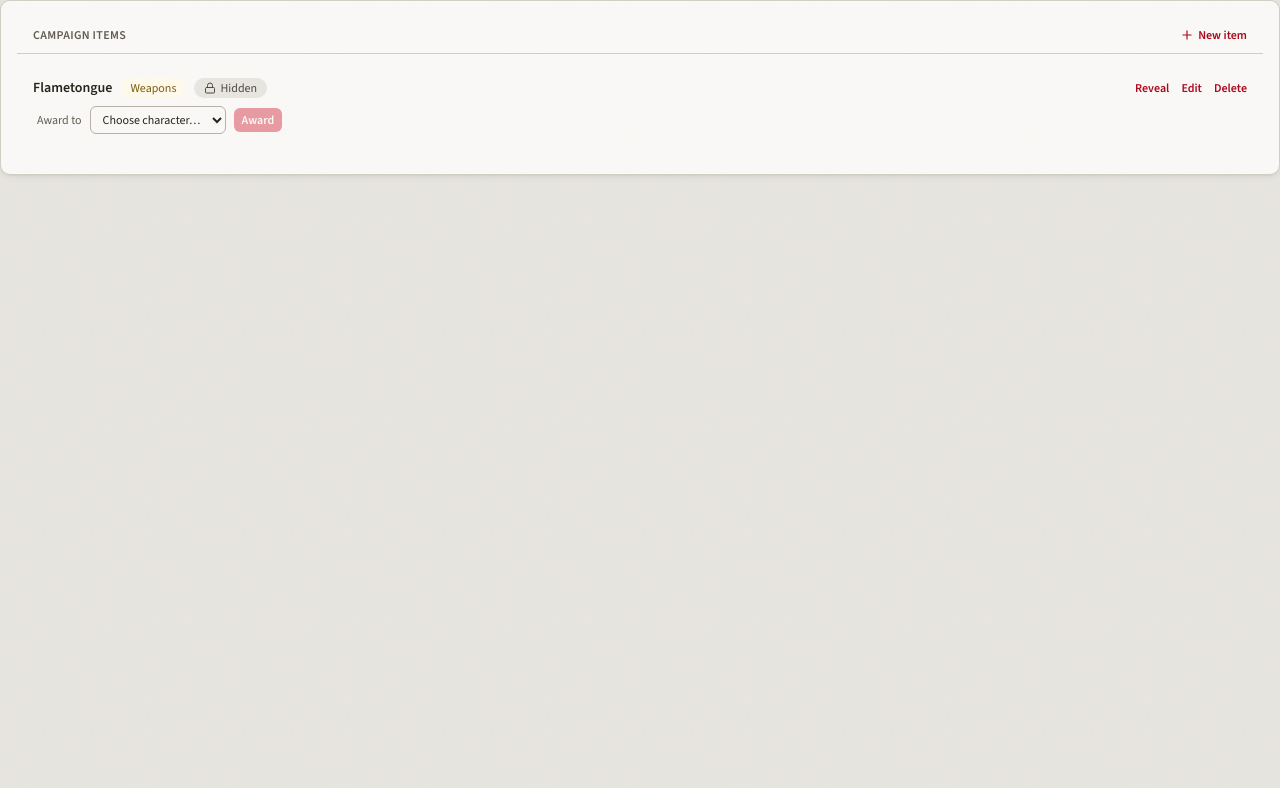
Scenario: CampaignItemsPanel field parity (#527/#542) › shows an existing non-gp cost in the single Value field on edit
The width and height of the screenshot is (1280, 788).
Check: the link "Flametongue" is shown, box [33, 78, 112, 98]
Click the button "Edit": [1192, 88] box [1181, 80, 1202, 96]
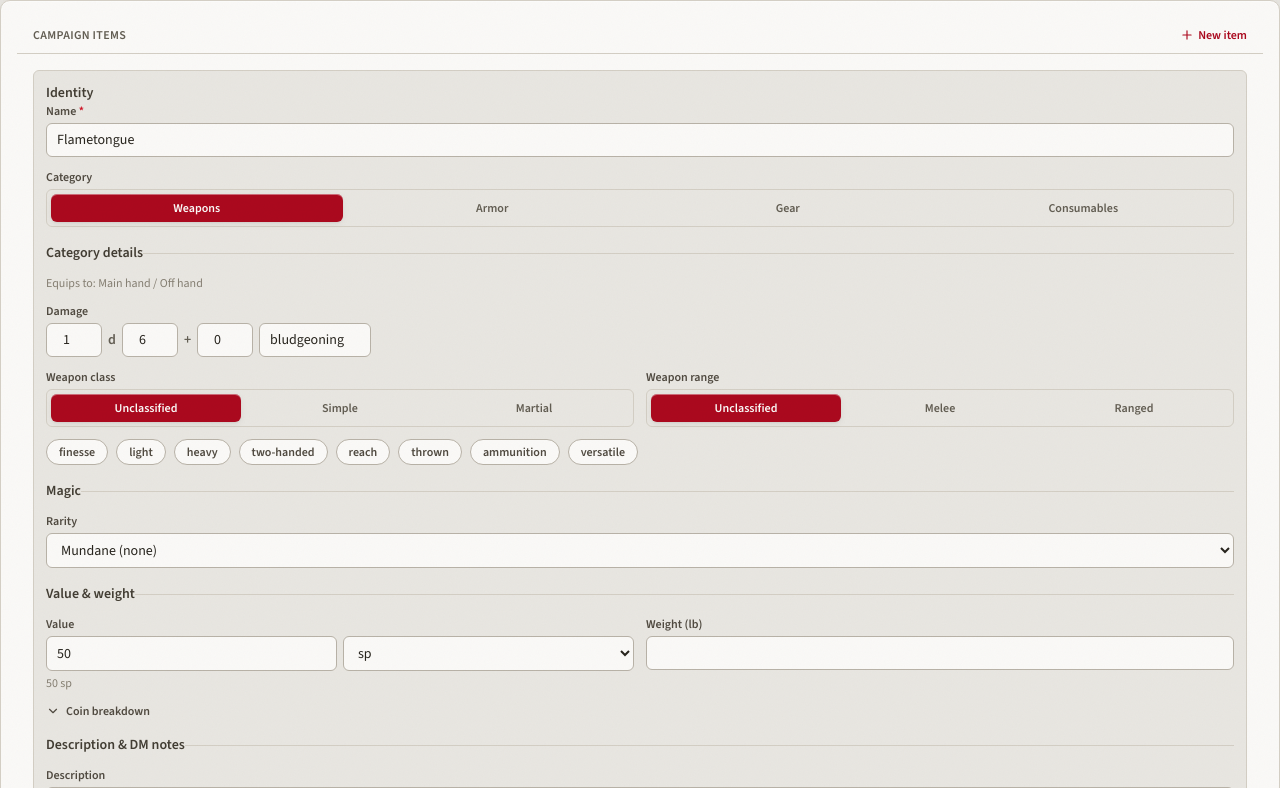
Check: the number field labelled "Value" holds "50", box [46, 636, 337, 671]
Check: the dropdown named "Value unit" shows "sp", box [343, 636, 634, 671]
